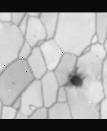good_void: (65, 66, 86, 88), (11, 80, 16, 85)
